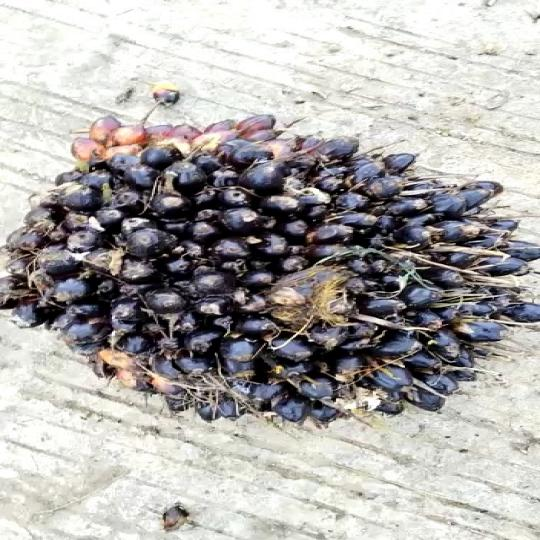mentah: (0, 100, 540, 430)
